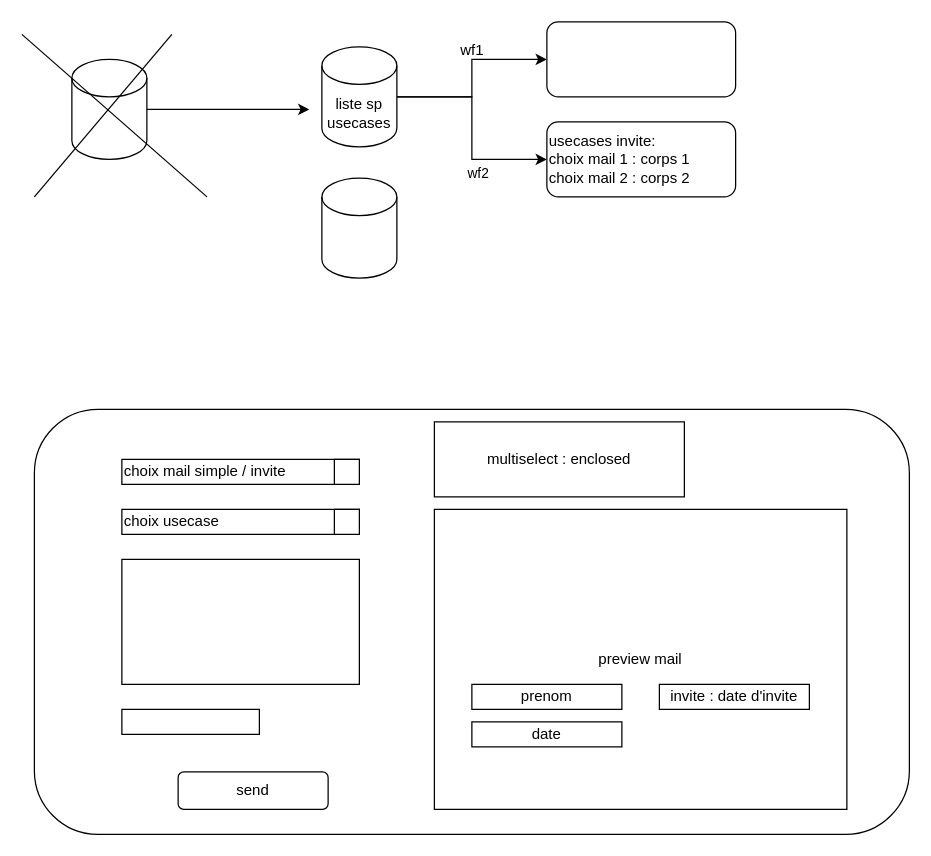
Image size: 931x856. Some labels were removed from this diagram. Here are the shapes that lost their labels. From the top down, the centre of each, then its label:
At [641,59]: "usecases mail simple: choix mail 1 : corps 1 choix mail 2 : corps 2".
At [109,108]: "excel".
At [359,227]: "liste sp enclosed".
At [240,621]: "liste mails users".
At [190,721]: "date de migration".
